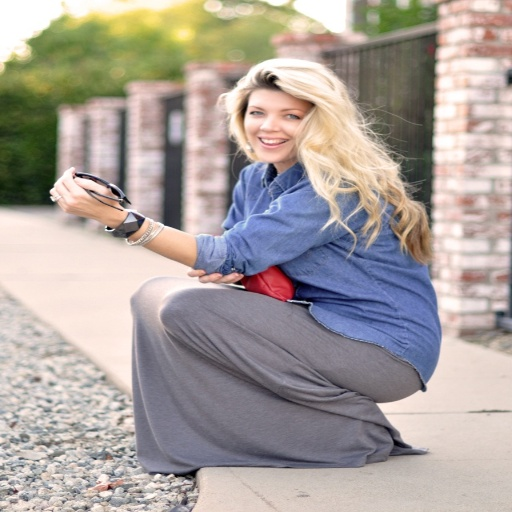hand: (51, 160, 150, 231), (184, 267, 245, 284)
